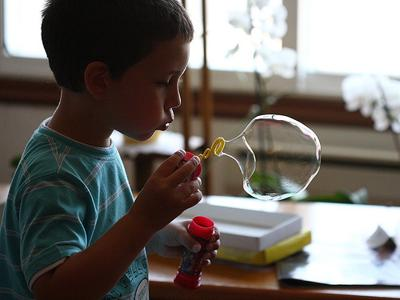person: (2, 2, 220, 298)
